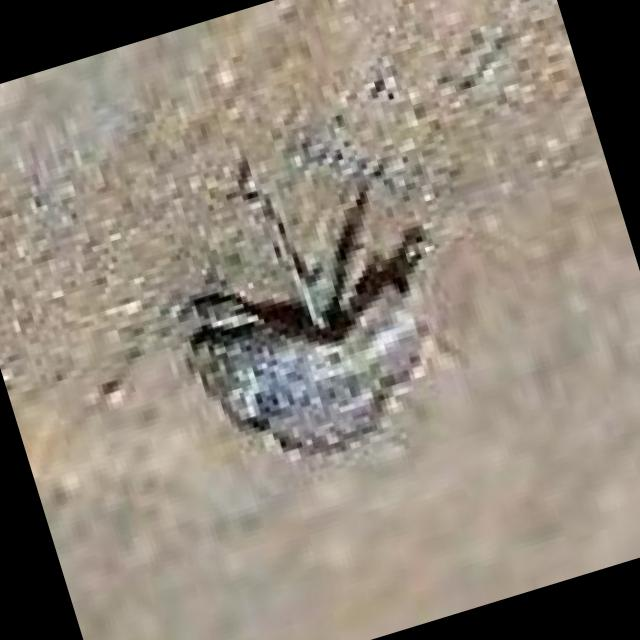rice-bug: (142, 139, 486, 490)
